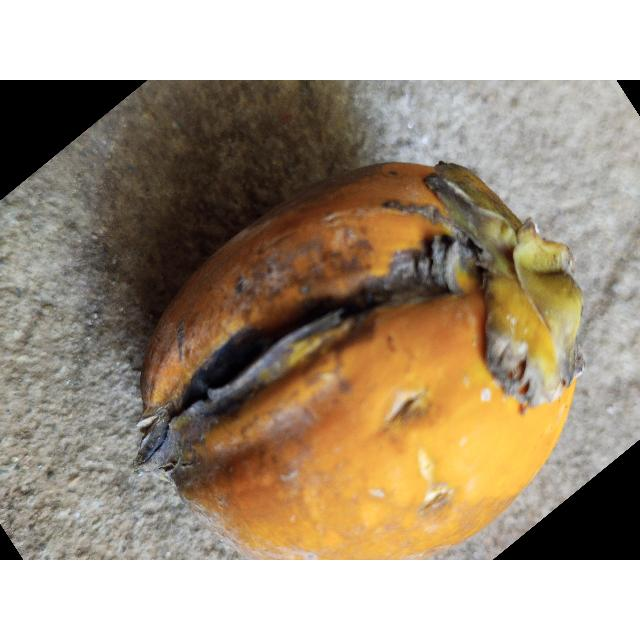damaged: (134, 161, 585, 560)
